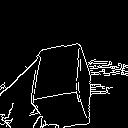cube: (32, 40, 103, 128)
